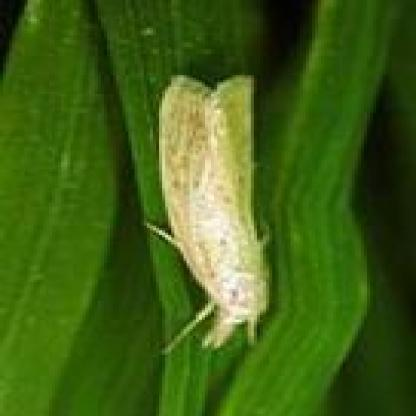stem-borer: (140, 73, 272, 357)
